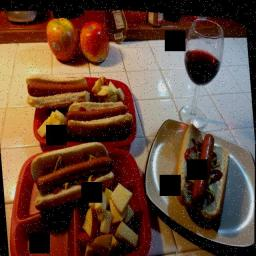hotdog: (22, 63, 136, 148), (17, 134, 117, 208), (171, 114, 236, 224)
